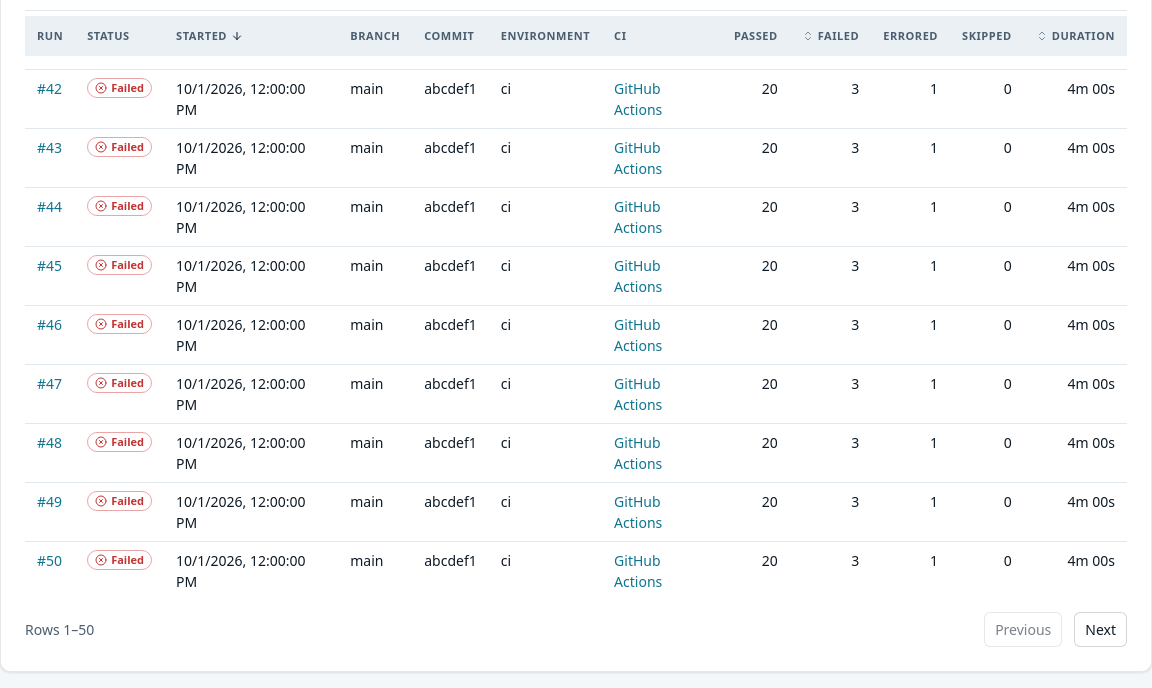
full page enables Next; empty later page keeps Previous reachable
(page scrolled)
What coordinates should you click on to do the following:
click the button "Next"
I would click on:
 (1101, 630)
Its box is x1=1074 y1=612 x2=1127 y2=647.
(page scrolled)
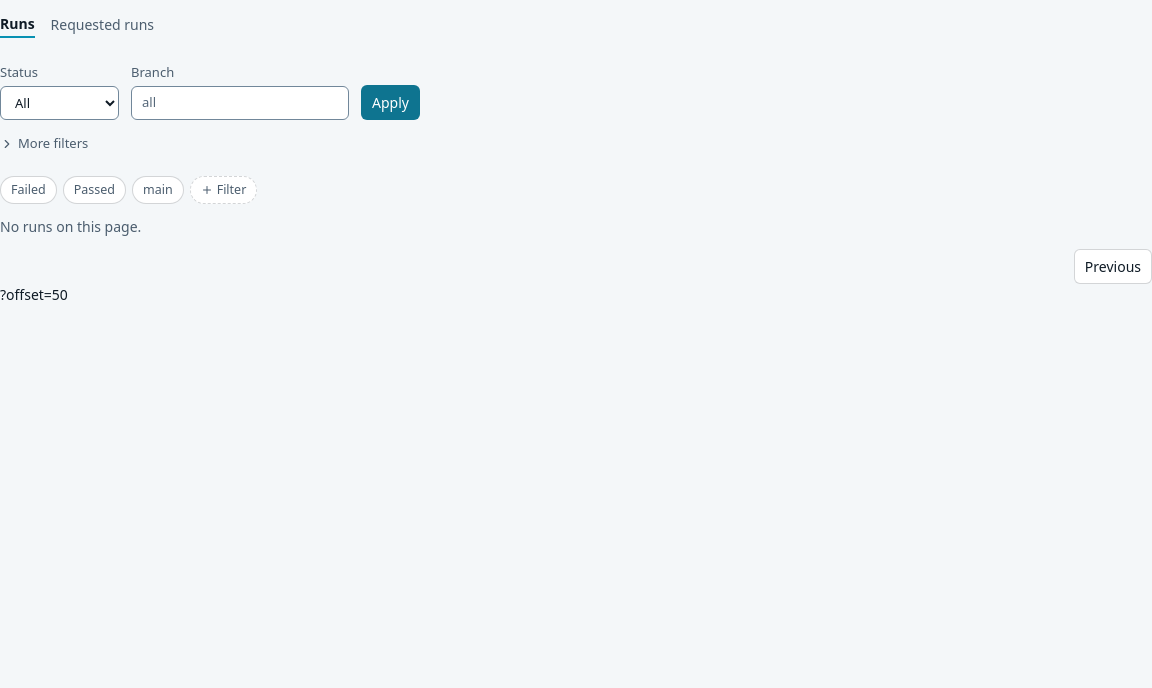
expect the text "No runs on this page." is shown: met, box x1=0 y1=217 x2=141 y2=236
What coordinates should you click on to do the following:
click the button "Previous"
I would click on:
 (1113, 266)
Its box is x1=1074 y1=249 x2=1151 y2=284.
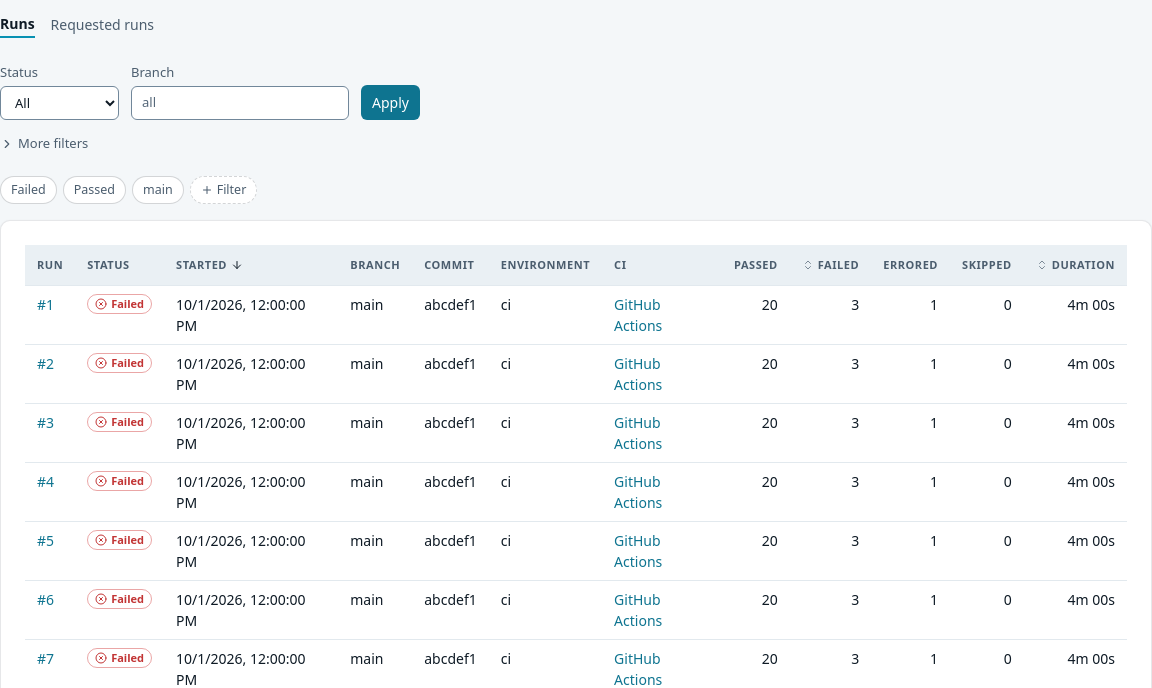
expect the link "#1" is shown: met, box x1=37 y1=295 x2=54 y2=314
